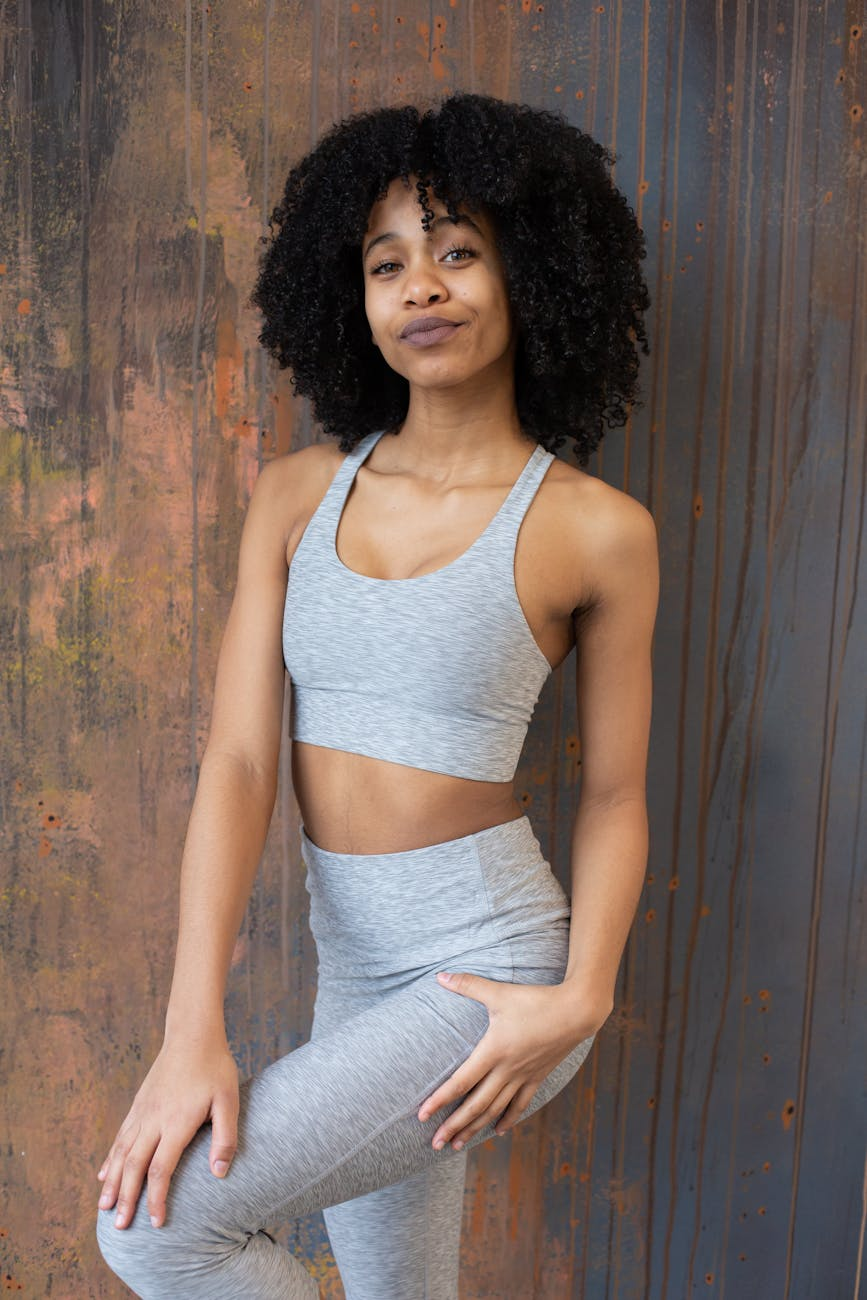crop_top: (252, 421, 605, 780)
